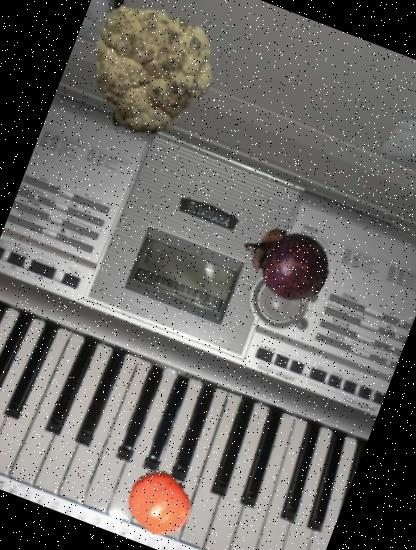Cauliflower: (65, 0, 241, 156)
Clementine: (118, 462, 202, 546)
Mangostan: (228, 204, 343, 319)
